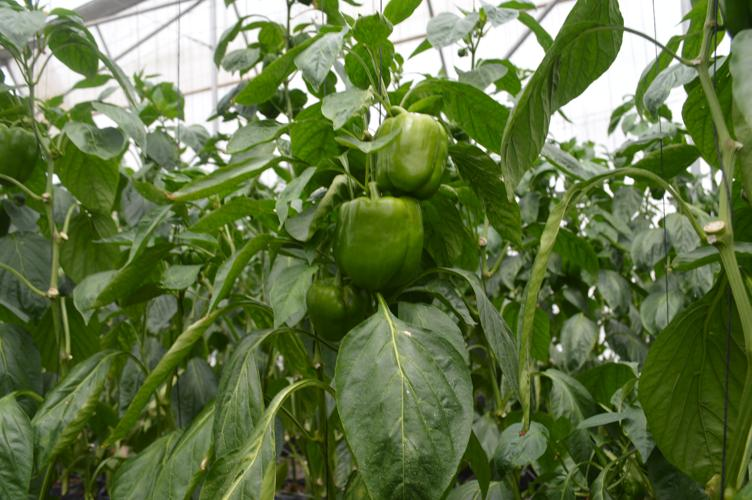BellPepper: (329, 190, 432, 294), (364, 103, 456, 198), (300, 272, 378, 346), (1, 126, 45, 199)
